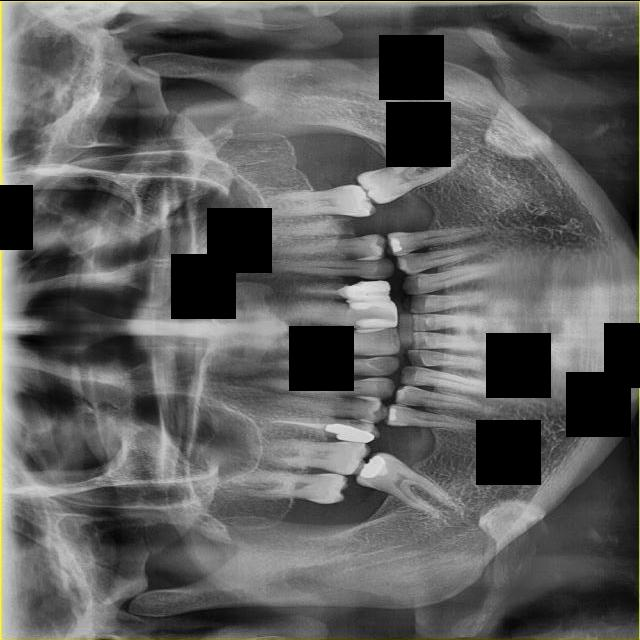74: (270, 418, 327, 429), (294, 287, 338, 293)
NucleOSS Implant: (323, 420, 377, 446), (357, 451, 389, 483), (386, 235, 404, 254), (388, 407, 397, 421)
Sterngold Implant: (333, 216, 353, 239), (350, 410, 370, 423), (349, 418, 366, 424), (354, 235, 368, 242), (386, 195, 398, 201)
Straumann Implant: (347, 299, 397, 328), (338, 280, 390, 303), (355, 327, 388, 333)
